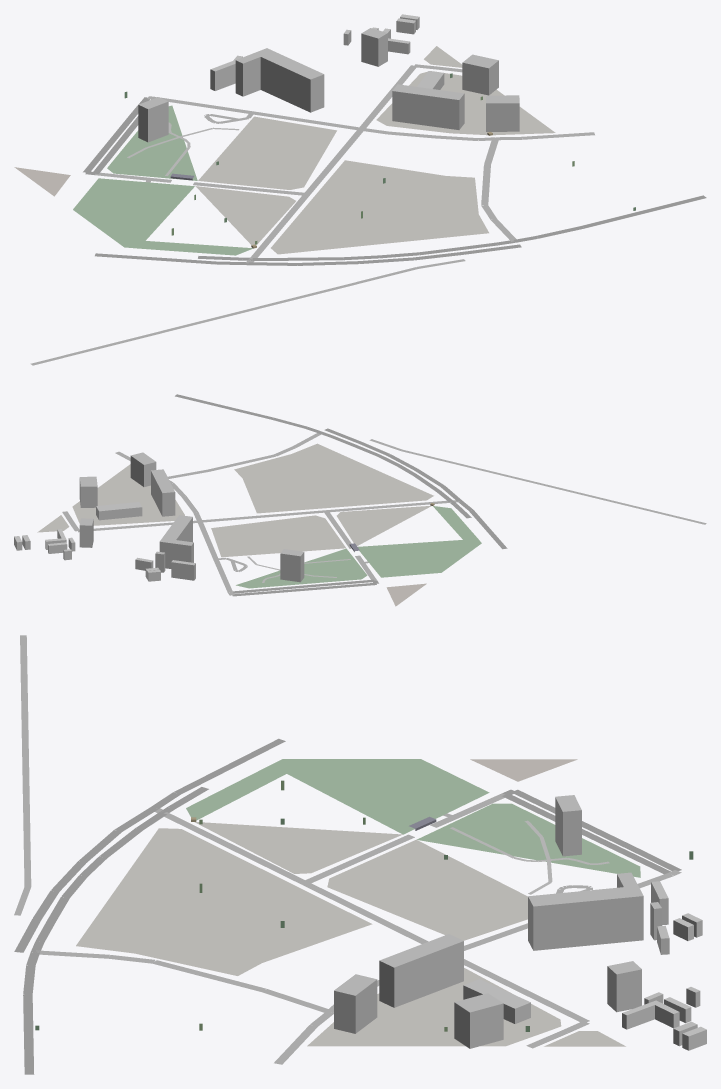
3 views of the same model, one above another, from view 1: azimuth 30°, elevation 25°; view 2: azimuth 150°, elevation 25°; view 3: azimuth 270°, elevation 25° (orthographic). The views are drawn at different scales.
Size of the model in its own units: 767 by 36.24 by 509.
